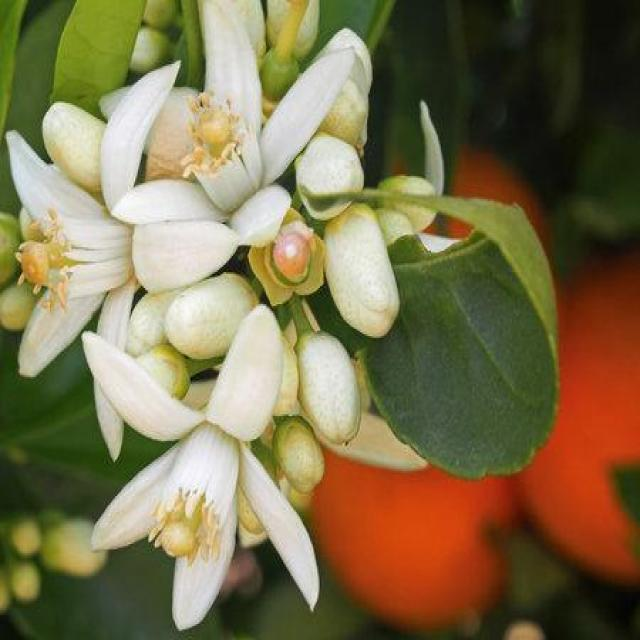Bunga: (80, 307, 326, 633), (103, 0, 354, 236), (2, 55, 180, 370), (326, 202, 400, 338), (41, 101, 127, 190), (166, 274, 256, 358), (300, 332, 360, 450), (297, 138, 370, 222), (130, 346, 208, 396), (274, 418, 326, 492), (126, 288, 180, 350), (377, 172, 434, 222), (371, 210, 418, 242)
